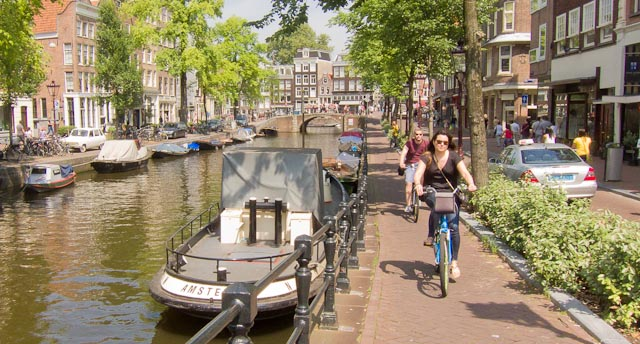commuter: (415, 133, 475, 298)
